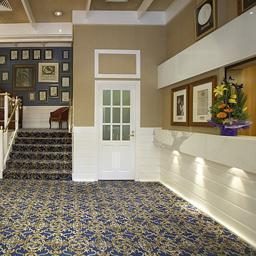Escaleras: (17, 130, 74, 183)
Puerta: (98, 82, 138, 180)
